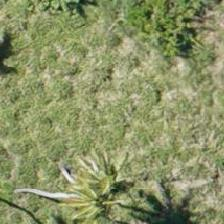coconut_tree: (55, 151, 145, 223)
